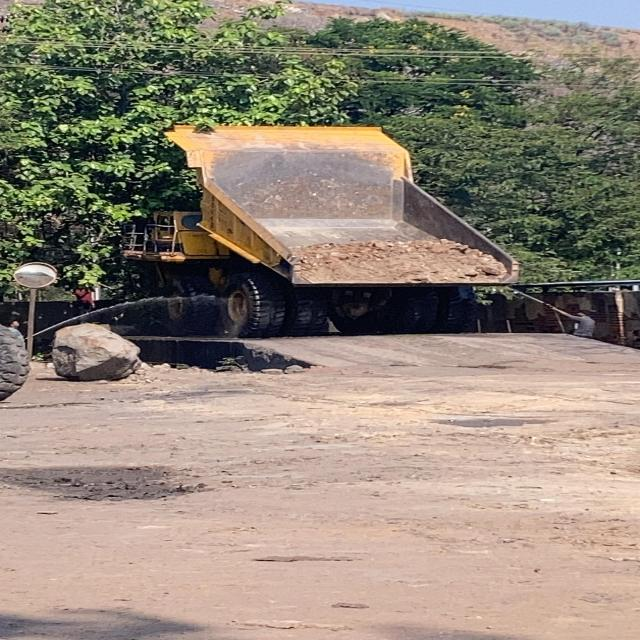dump_truck: (155, 91, 514, 358)
